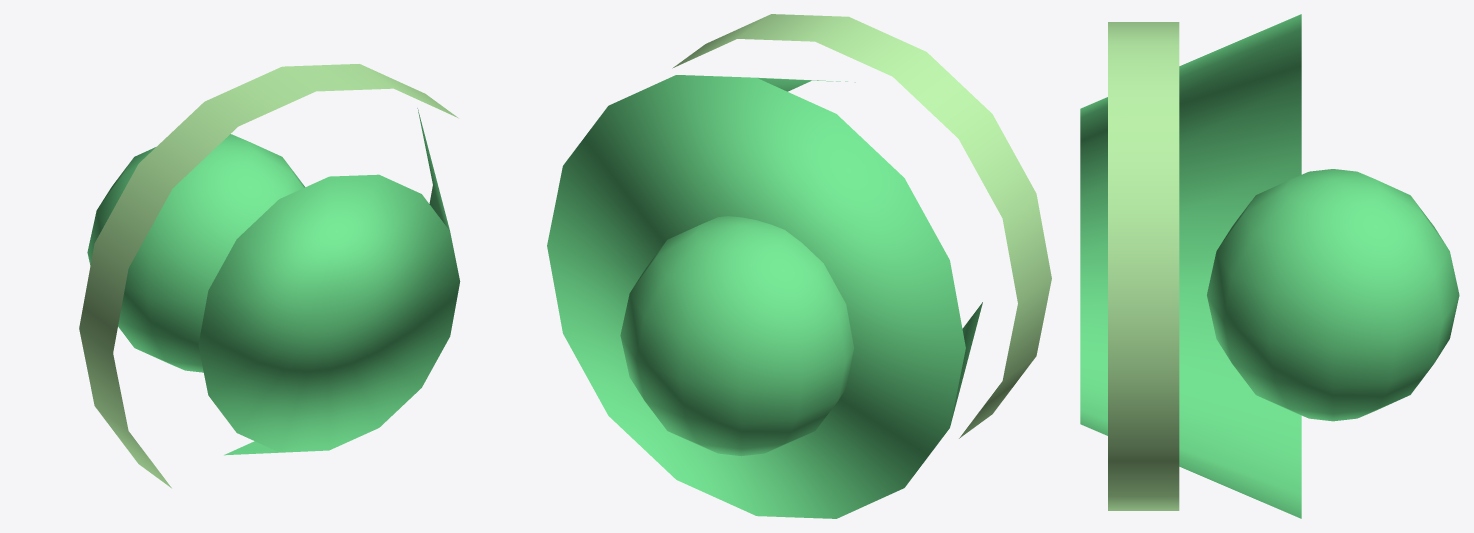
File: snake_green_tail.glb
3 renders of one model, left to right at view 1: azimuth 30°, elevation 25°; view 2: azimuth 150°, elevation 25°; view 3: azimuth 270°, elevation 25°, orthographic. The views are drawn at different scales.
Size of the model in its own units: 0.64 by 0.64 by 0.48.
